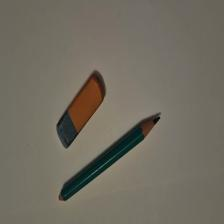eraser: (57, 76, 106, 150)
pencil: (60, 117, 161, 203)
